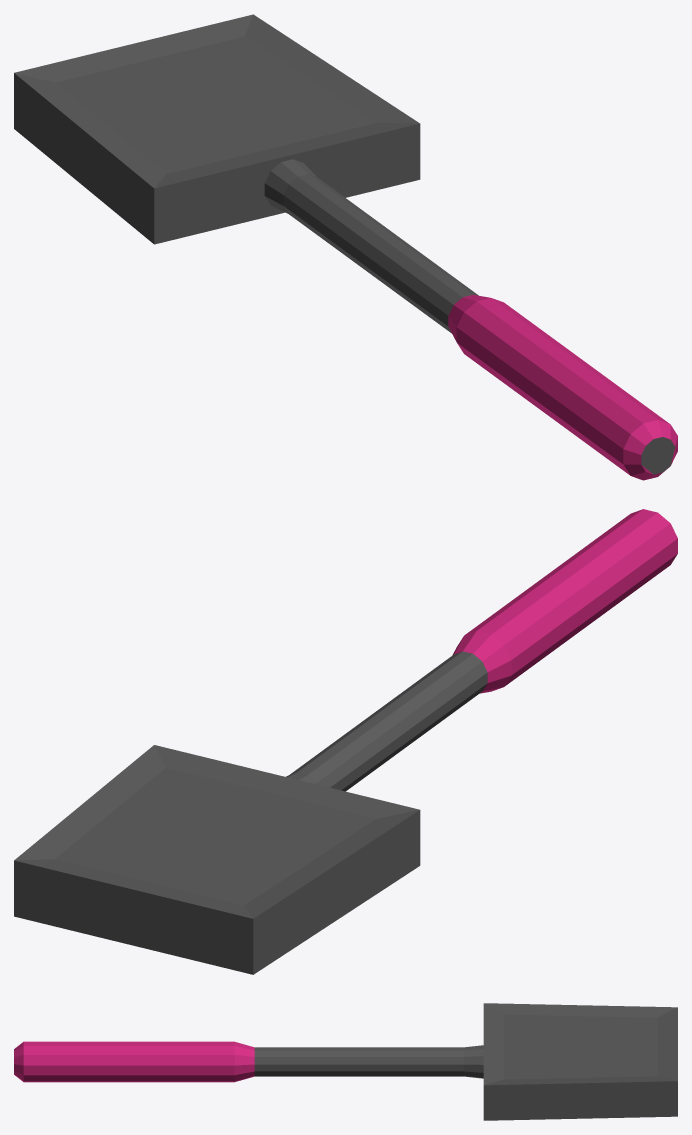
Rendered from swatter.dae.
3 renders of one model, top to bottom at view 1: azimuth 30°, elevation 25°; view 2: azimuth 150°, elevation 25°; view 3: azimuth 270°, elevation 25°, orthographic. The views are drawn at different scales.
Visible parts, largest first — view 1: Torus_001; view 2: Torus_001; view 3: Torus_001.
Part boxes in pixels (left/top/right/bottom): Torus_001: left=14, top=14, right=677, bottom=480; Torus_001: left=14, top=509, right=677, bottom=974; Torus_001: left=14, top=1003, right=677, bottom=1120.
Bounding box in the file's own units: 0.9499 × 3.24 × 0.1949.
